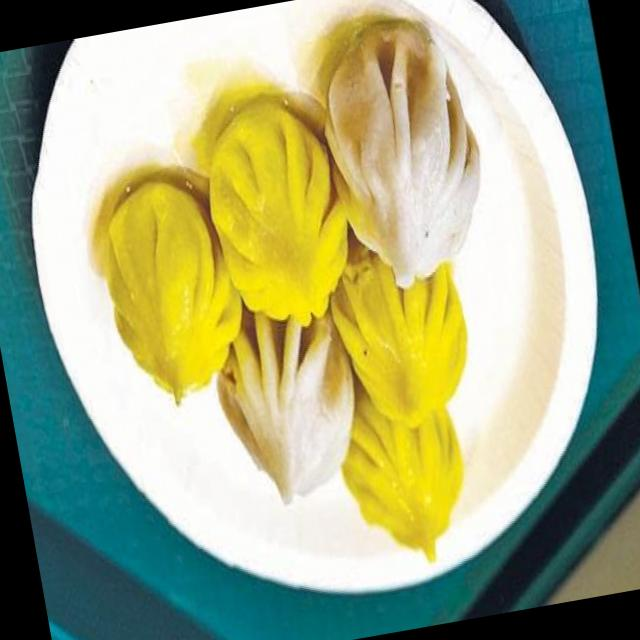modak: (212, 125, 449, 534)
